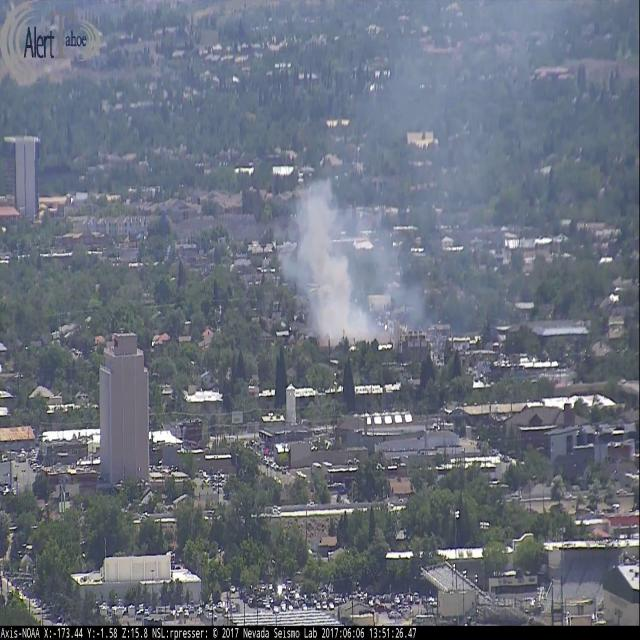smoke: (278, 43, 481, 344)
